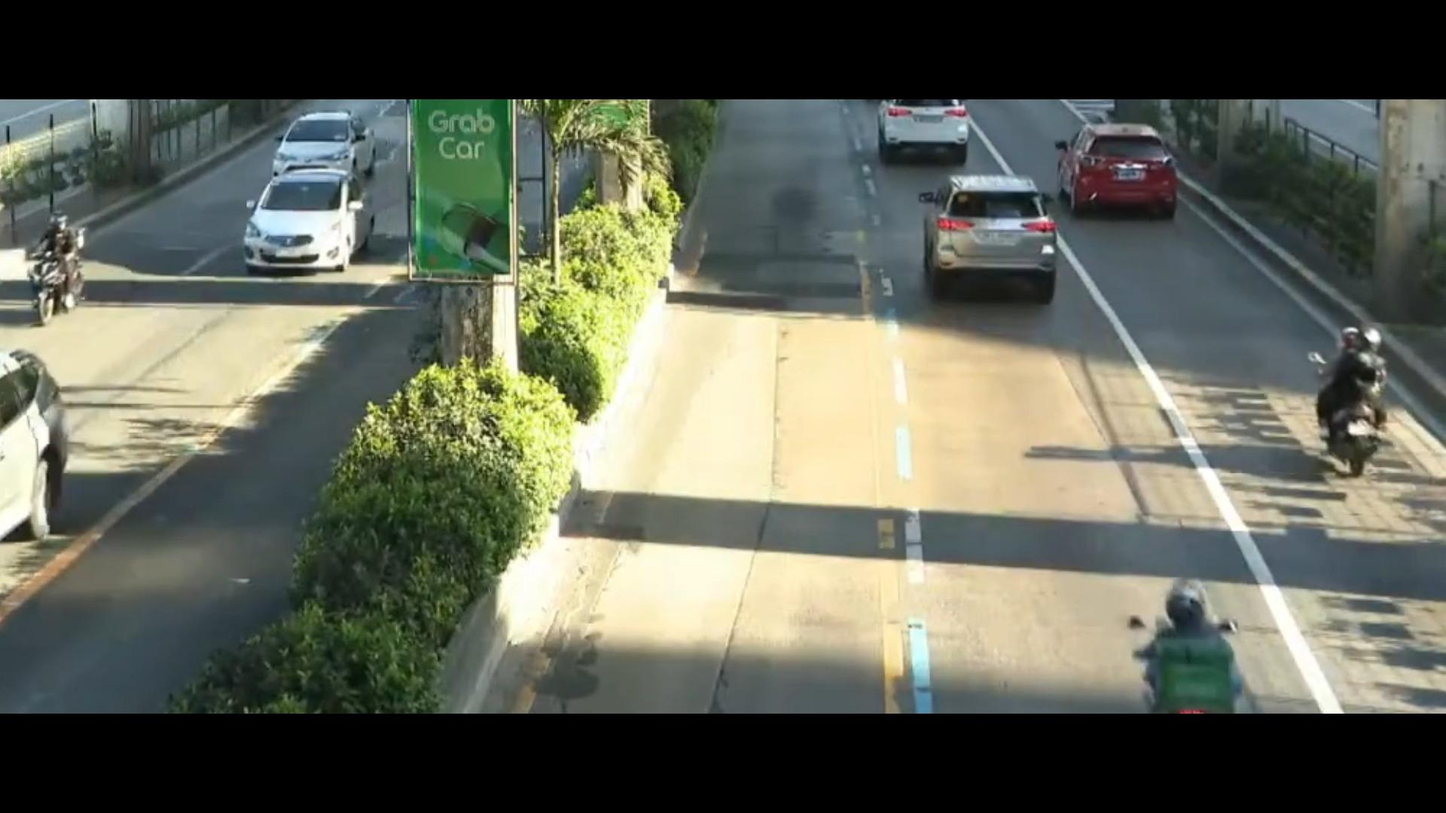Motorcycle: (1096, 548, 1287, 708), (1295, 300, 1431, 487), (0, 202, 125, 331)
SUV: (917, 157, 1070, 312), (1063, 108, 1200, 223), (855, 95, 992, 157)
Sedan: (247, 158, 366, 288), (257, 102, 377, 199)
